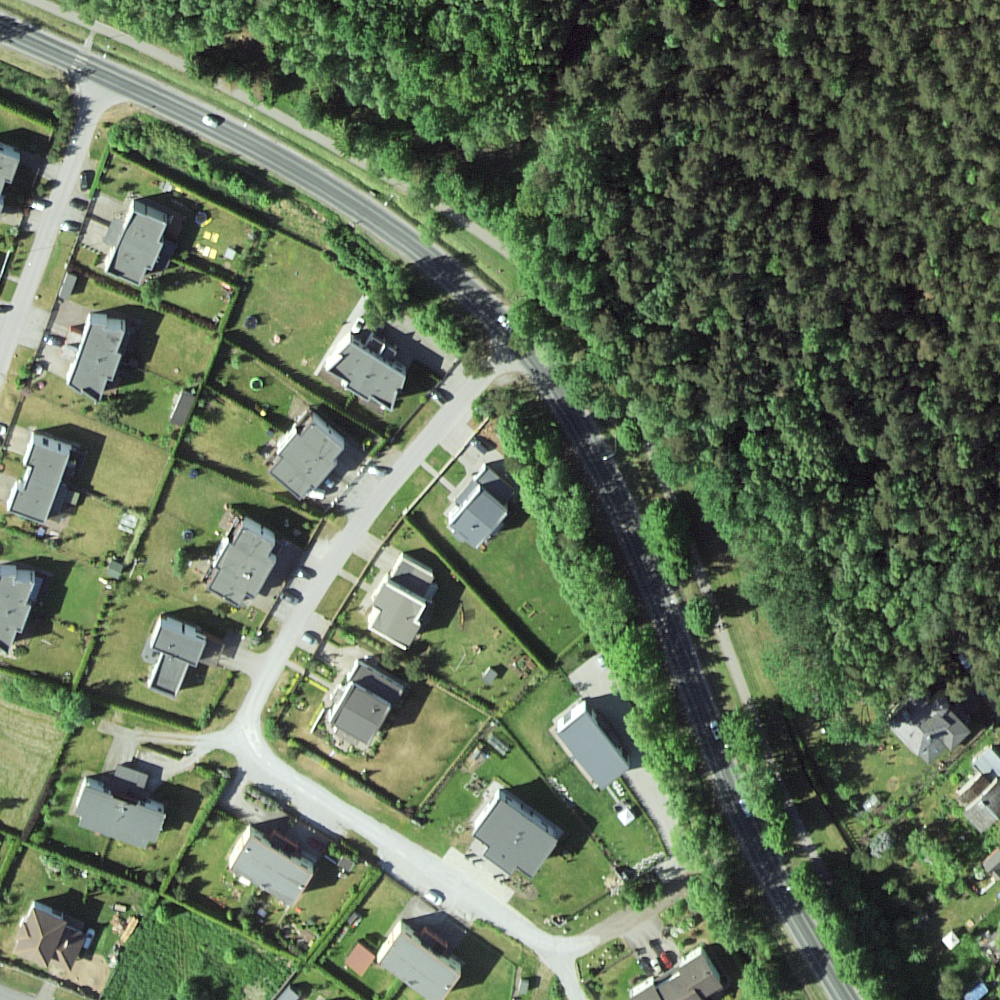building: (473, 800, 561, 877), (331, 660, 406, 747), (888, 688, 971, 766), (231, 835, 314, 906), (73, 787, 167, 849), (557, 712, 631, 790), (325, 342, 406, 412), (379, 931, 462, 998), (270, 424, 343, 500), (208, 527, 277, 607), (9, 442, 71, 524), (13, 908, 88, 970), (67, 325, 126, 403), (106, 212, 167, 286), (149, 622, 207, 699), (631, 954, 722, 1000), (369, 582, 427, 649), (447, 491, 509, 549), (957, 749, 999, 831), (1, 576, 36, 654), (1, 150, 22, 215), (111, 764, 148, 798), (345, 944, 377, 975), (170, 391, 197, 427), (60, 274, 78, 301), (983, 847, 1000, 875), (108, 561, 125, 580), (278, 986, 301, 1000), (483, 668, 498, 685)
